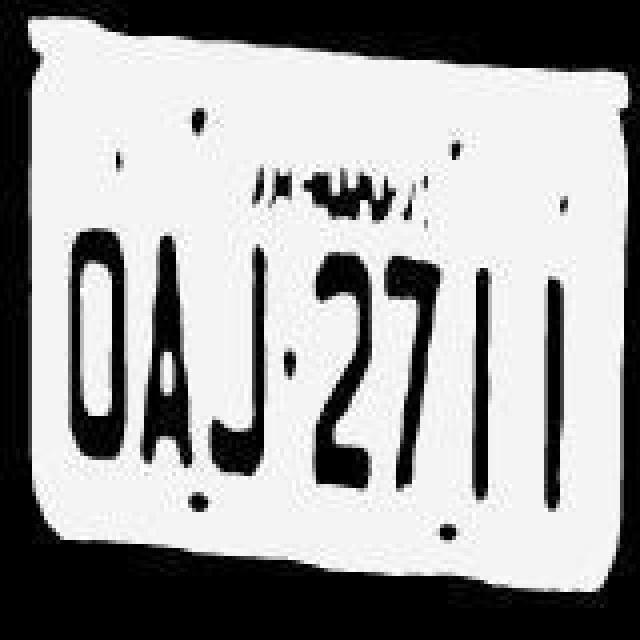1: (522, 242, 574, 518), (454, 244, 506, 508)
2: (300, 224, 380, 504)
7: (382, 218, 450, 486)
A: (136, 230, 200, 482)
J: (204, 222, 284, 490)
O: (48, 222, 128, 490)
